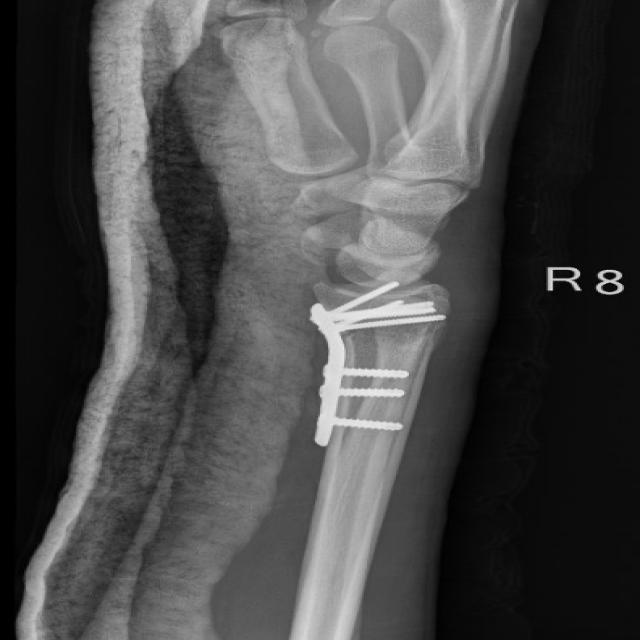x-ray: (298, 280, 450, 455)
